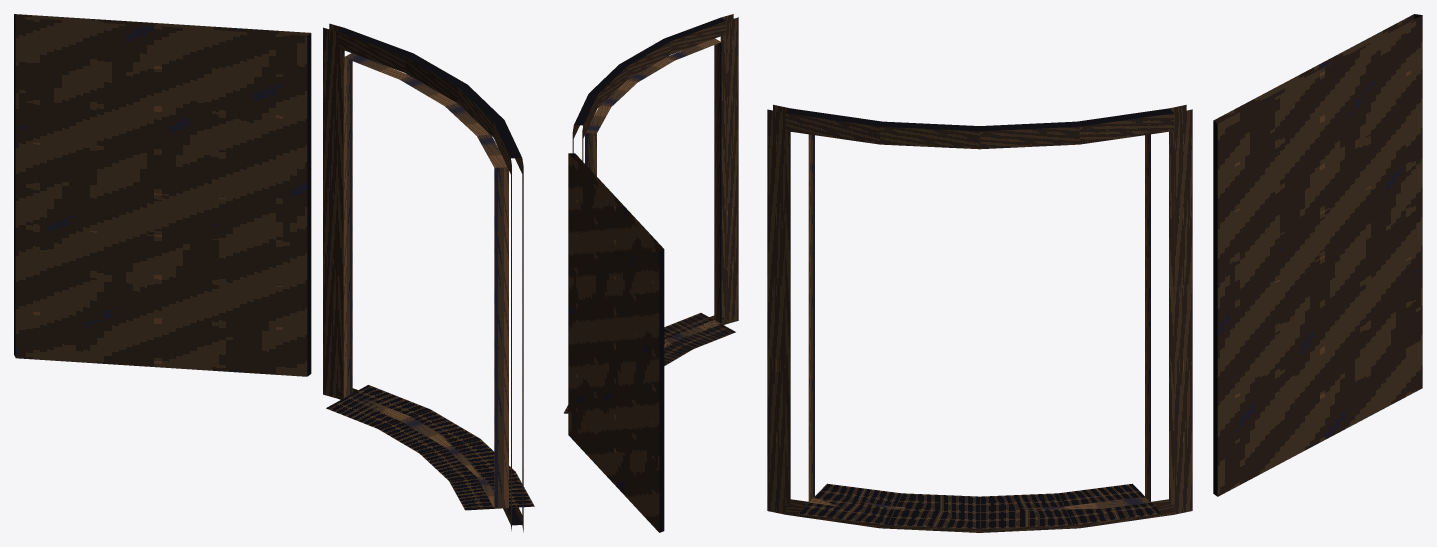
The model's file is TOR-07_Porton_de_amarre.gltf.
The picture shows the model from 3 angles, left to right: view 1: azimuth 30°, elevation 25°; view 2: azimuth 150°, elevation 25°; view 3: azimuth 270°, elevation 25°; orthographic projection. The views are drawn at different scales.
Visible parts, largest first — view 1: TOR-07_Porton_de_amarre-col; view 2: TOR-07_Porton_de_amarre-col; view 3: TOR-07_Porton_de_amarre-col.
Boxes of the visible parts, bbox=[...] form: TOR-07_Porton_de_amarre-col: bbox=[14, 14, 534, 532]; TOR-07_Porton_de_amarre-col: bbox=[564, 14, 738, 532]; TOR-07_Porton_de_amarre-col: bbox=[767, 14, 1422, 532].
Bounding box in the file's own units: 1.88 × 2.48 × 3.66.
Materials: 1 (1 with a texture image).
